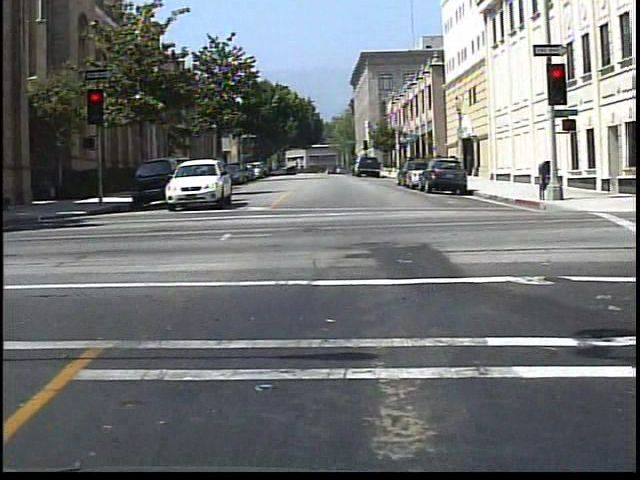car: (149, 160, 240, 209), (421, 153, 469, 200), (353, 154, 380, 177)
strada: (7, 227, 628, 465)
